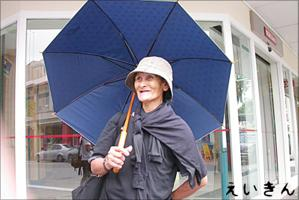person: (88, 56, 208, 200)
